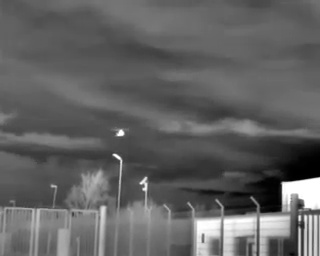HELICOPTER: (111, 124, 132, 142)
